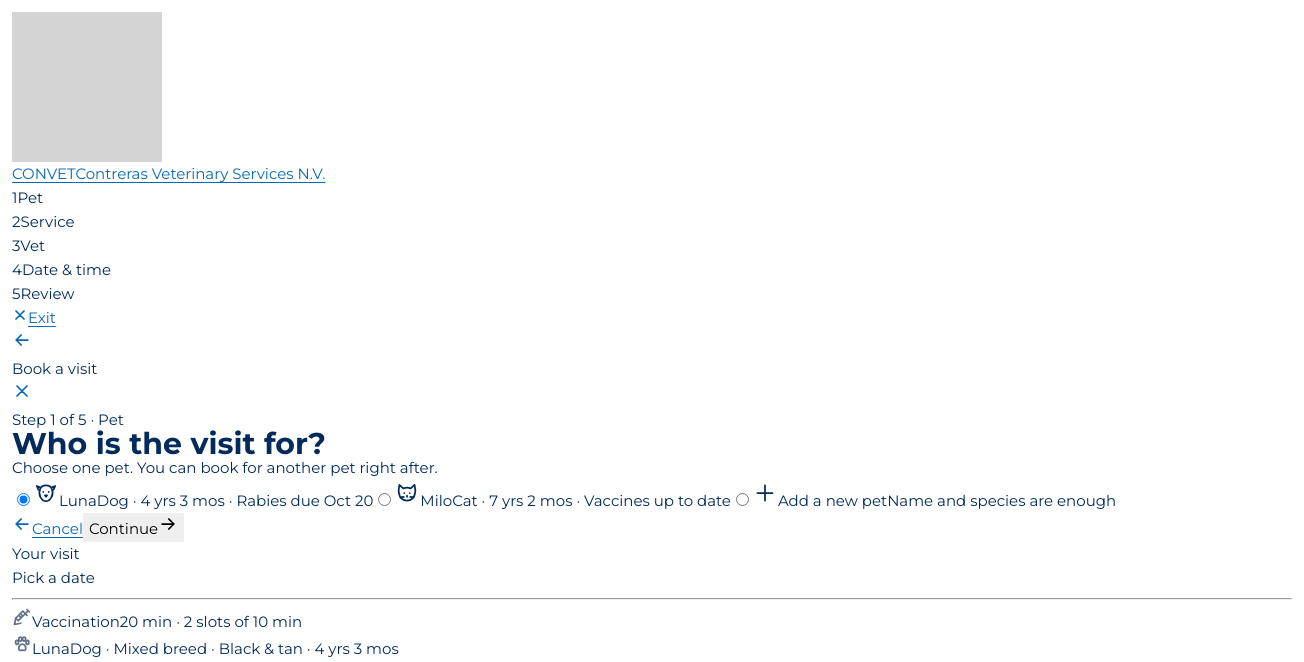
BookingFlow › shows what is chosen in the summary card and goes back
This screenshot has width=1304, height=662.
Click the button "Continue" next to "Cancel".
click(134, 528)  # box [83,513,184,542]
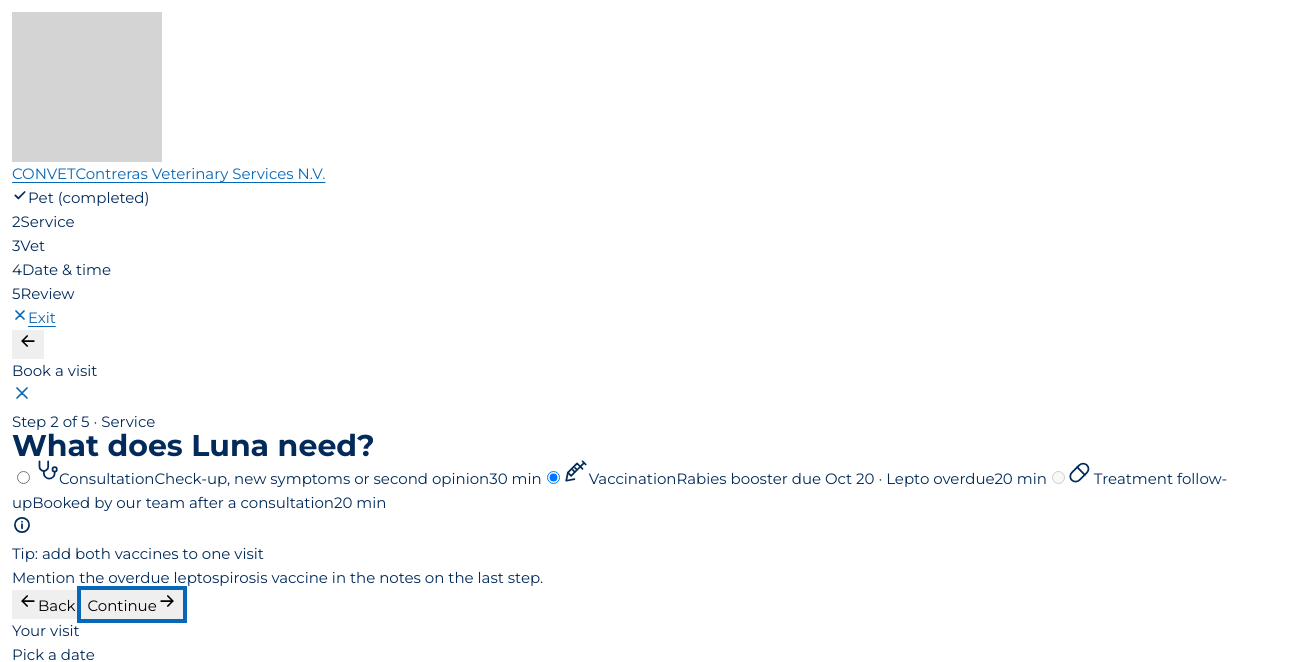
Click the button "Continue".
click(132, 604)  # box [82,590,183,619]
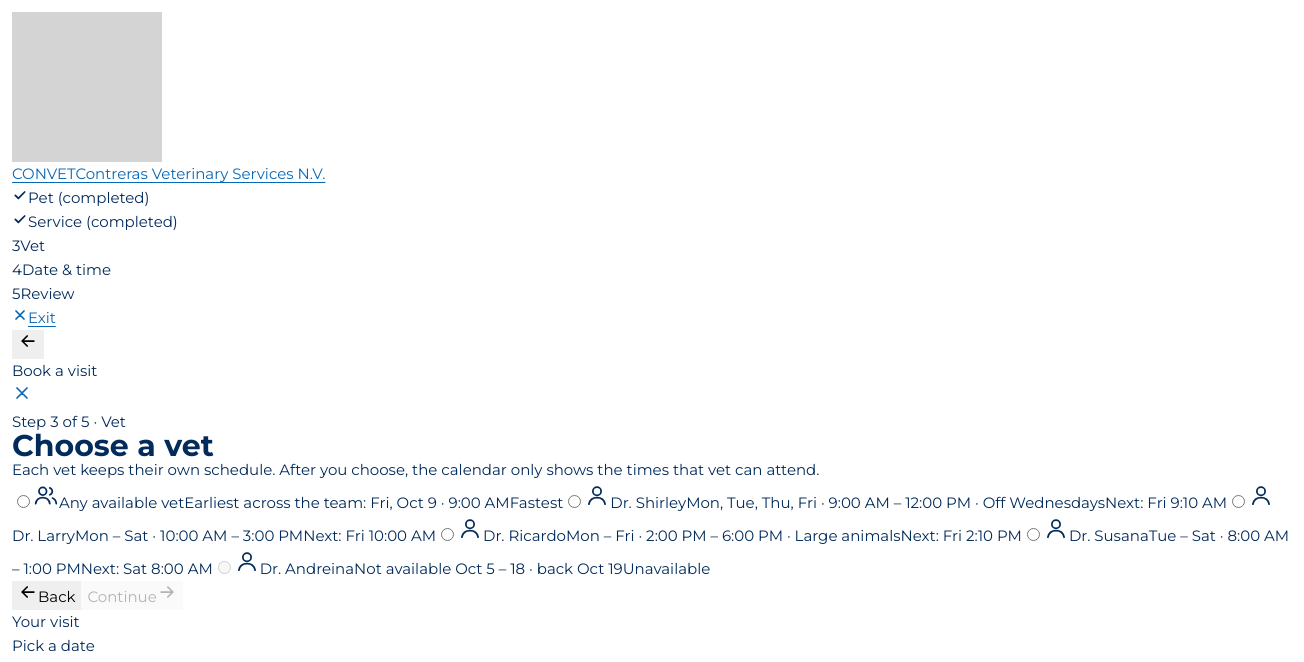
Click the button named "Back".
click(28, 344)  # box [12,330,44,359]
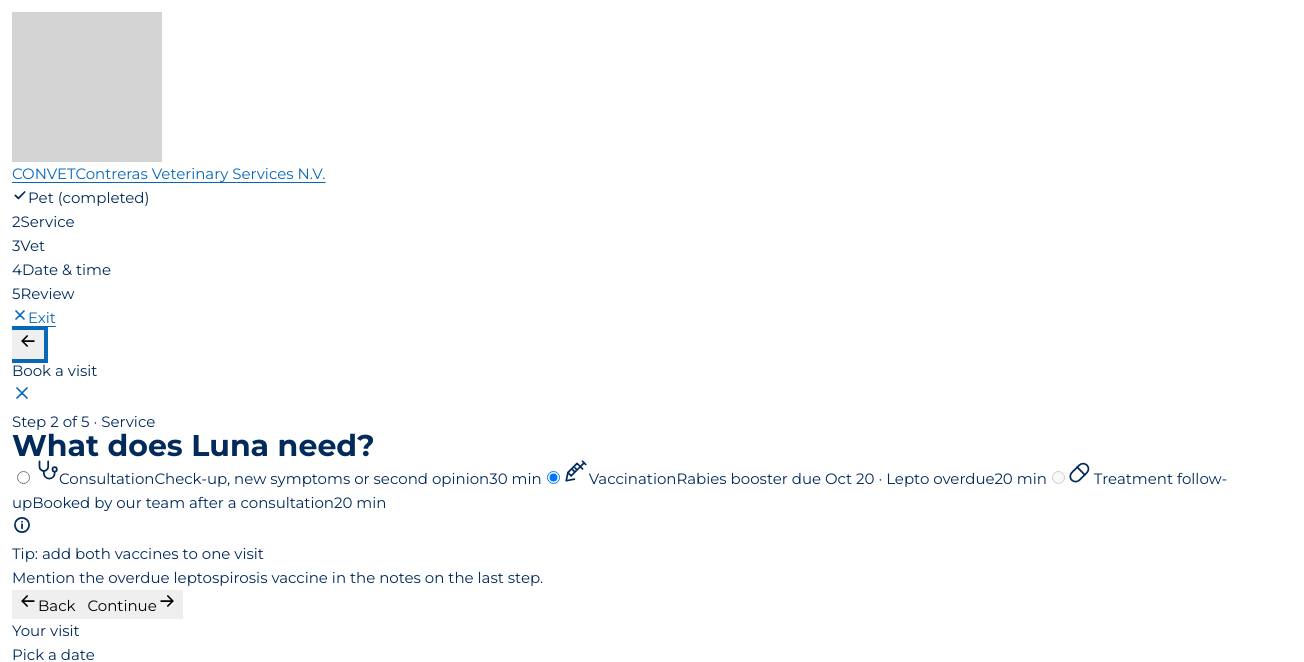
Check: the heading "What does Luna need?" is shown, box [12,427,375,464]
